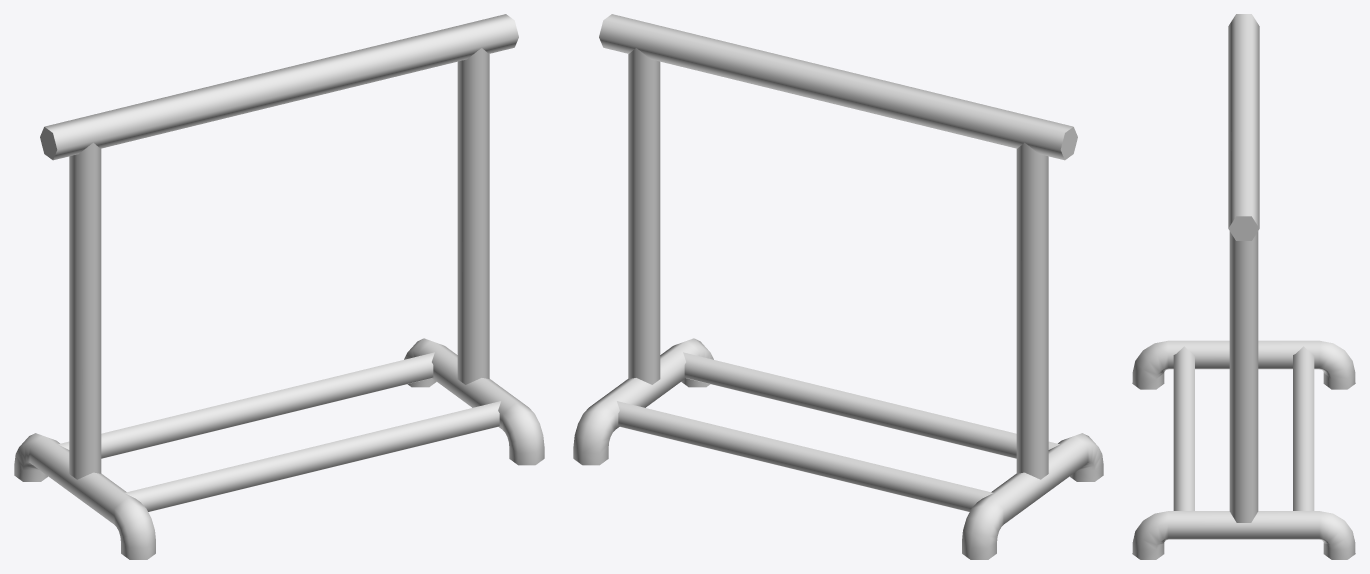
The model's file is Pfb_CoatHanger.fbx.
The picture shows the model from 3 angles, left to right: view 1: azimuth 30°, elevation 25°; view 2: azimuth 150°, elevation 25°; view 3: azimuth 270°, elevation 25°; orthographic projection. The views are drawn at different scales.
Parts seen in each view (by area): view 1: MAT_Coathanger_Dark_M; view 2: MAT_Coathanger_Dark_M; view 3: MAT_Coathanger_Dark_M.
Part boxes in pixels (x1=…): MAT_Coathanger_Dark_M: x1=14, y1=14, x2=544, y2=559; MAT_Coathanger_Dark_M: x1=573, y1=14, x2=1103, y2=559; MAT_Coathanger_Dark_M: x1=1132, y1=14, x2=1355, y2=559.
Bounding box in the file's own units: 1.61 × 1.31 × 0.75.
1 material, 1 textured.
